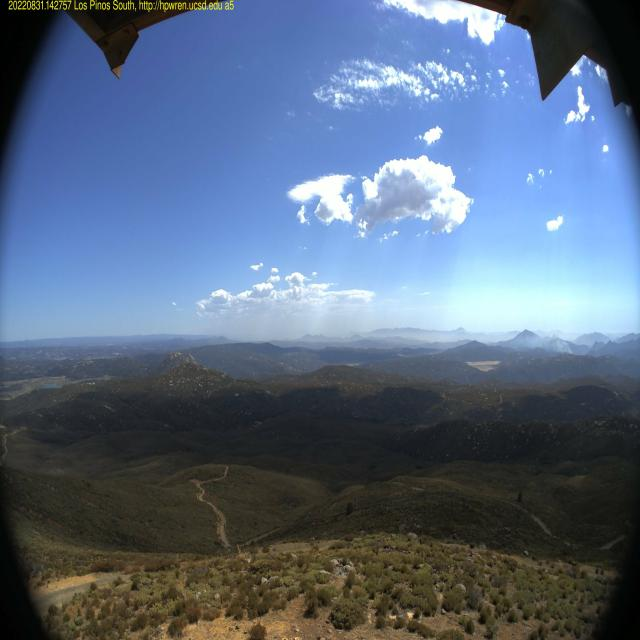smoke: (501, 324, 553, 352), (554, 340, 574, 357)
